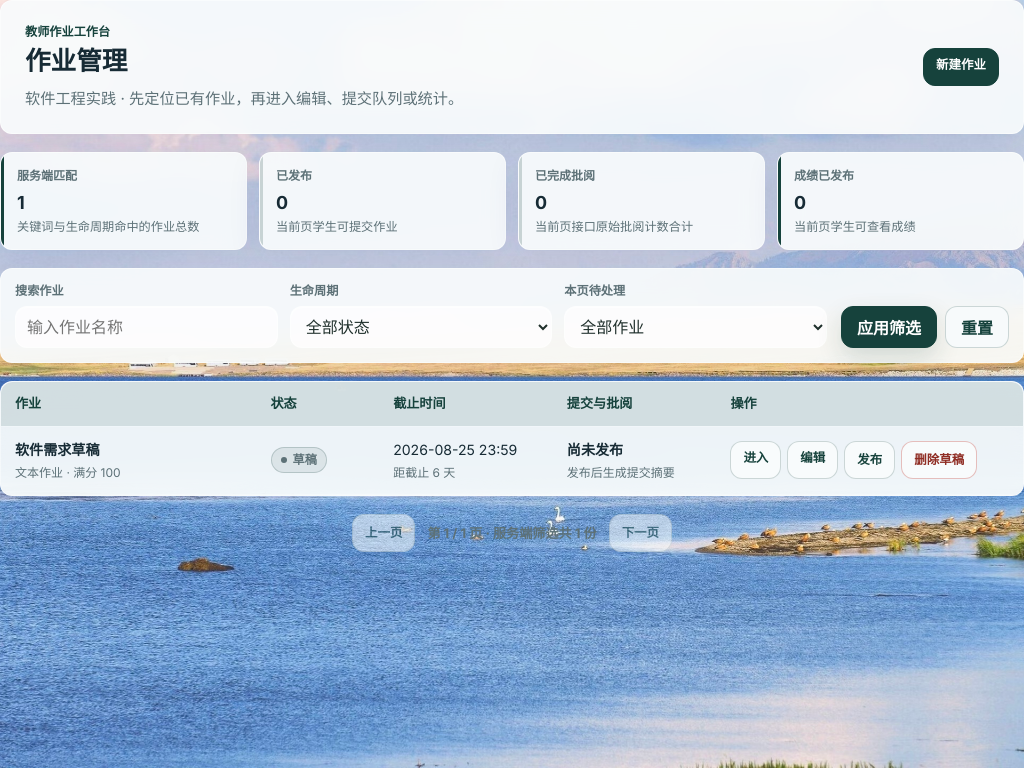
Test case: HomeworkTeacherView › keeps the homework row and action available after a lifecycle failure
The image size is (1024, 768).
Click the button with test id "publish-homework-1": (870, 460) [844,441,895,479]
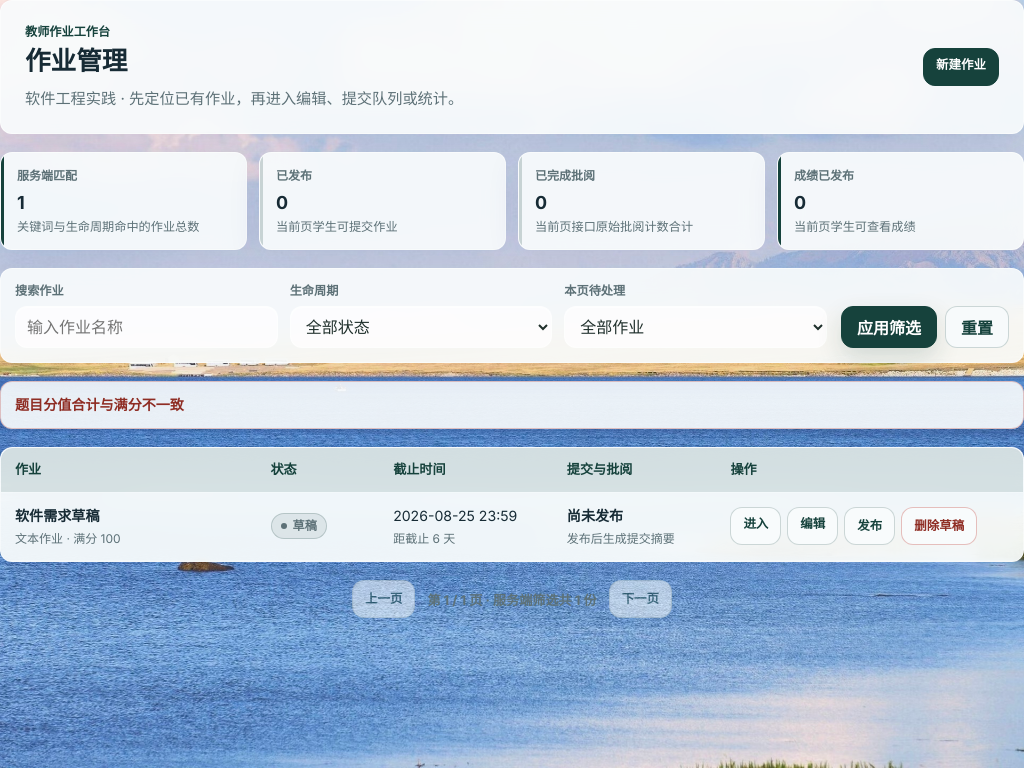
Check: the text "软件需求草稿" is shown, box [15,507,100,524]
Check: the message with test id "operation-error" reads "题目分值合计与满分不一致", box [15,396,184,413]
